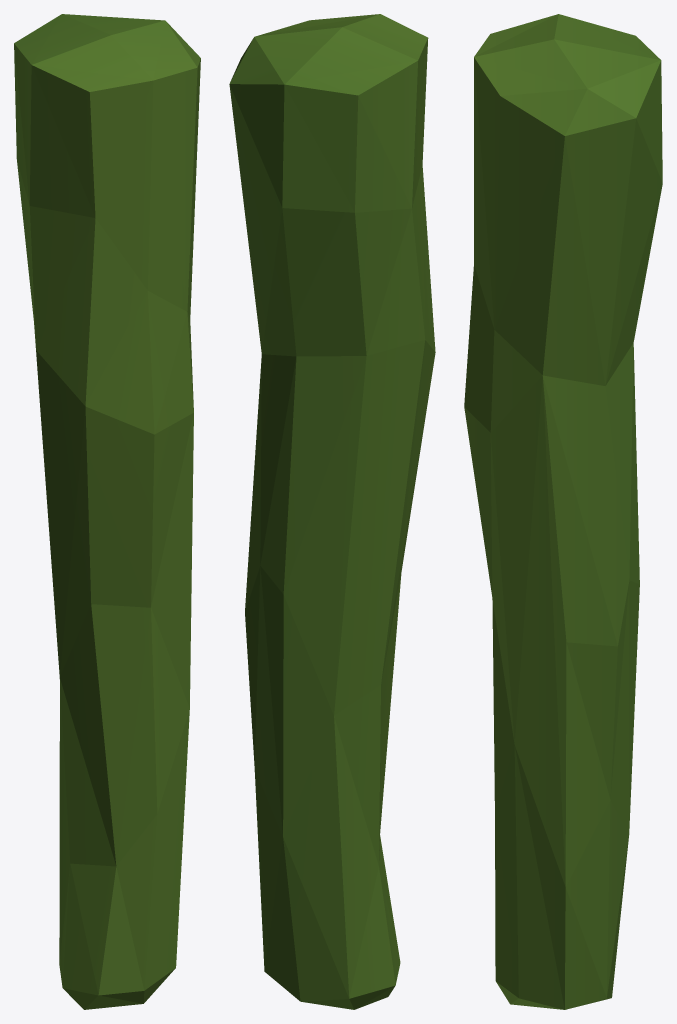
The model's file is Fence_02.fbx.
3 views of the same model, side by side, from view 1: azimuth 30°, elevation 25°; view 2: azimuth 150°, elevation 25°; view 3: azimuth 270°, elevation 25° (orthographic).
Visible parts, largest first — view 1: Fence_02; view 2: Fence_02; view 3: Fence_02.
Part boxes in pixels (x1,y1,x2,y2): Fence_02: [14, 14, 200, 1009]; Fence_02: [229, 14, 435, 1009]; Fence_02: [464, 14, 662, 1009].
Bounding box in the file's own units: 0.535 × 2.82 × 0.5269.
